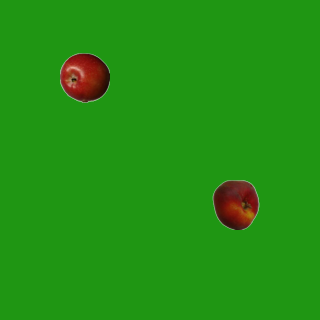Apple Braeburn: (59, 52, 109, 102)
Nectarine Flat: (210, 179, 260, 229)
